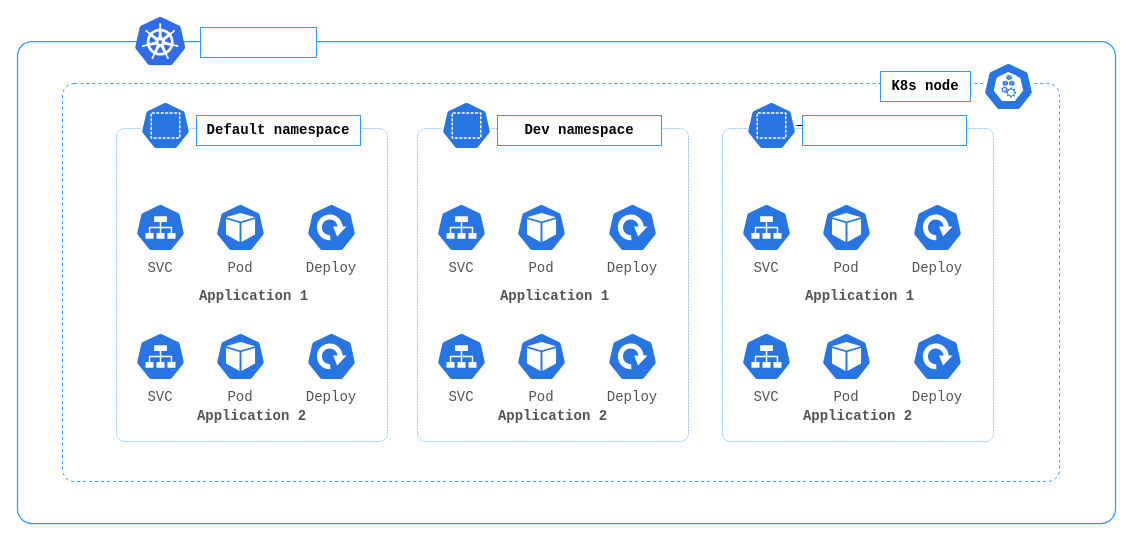
This 1134x541 diagram has some shape labels left out. The shapes that lost their labels are listed below. From the top down, each one's centre as x and y in pixels, then its label:
(x=258, y=42): K8s cluster
(x=884, y=130): QC namespace
